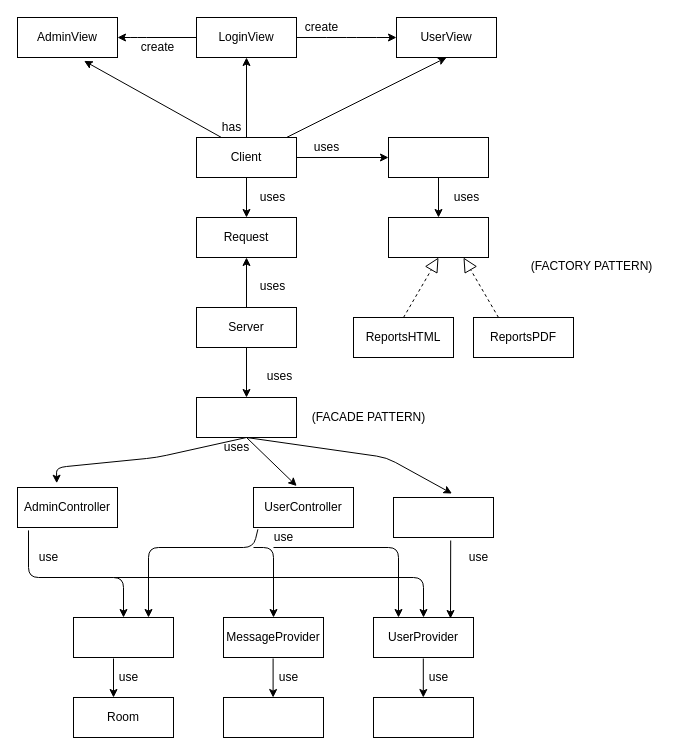
This 679x755 diagram has some shape labels left out. The shapes that lost their labels are listed below. From the top down, each one's box as (x1, y1, x2, y2) in pixels, then its label:
(388, 136, 488, 178): ClientController
(388, 216, 488, 258): Reports
(196, 396, 296, 438): MainController
(392, 496, 494, 538): LoginController
(72, 616, 174, 658): RoomProvider
(222, 696, 324, 738): Message
(372, 696, 474, 738): User
